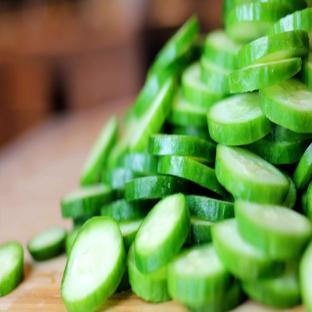Cucumber: (62, 217, 126, 311), (235, 201, 311, 260), (135, 194, 190, 272), (212, 219, 283, 279), (216, 145, 289, 203), (168, 244, 232, 306), (207, 93, 271, 145), (129, 79, 175, 151), (149, 17, 198, 75), (260, 79, 311, 132), (224, 1, 290, 41), (158, 156, 225, 195), (242, 263, 300, 308), (229, 58, 301, 93), (81, 116, 117, 185), (128, 244, 170, 302), (239, 31, 308, 66), (133, 66, 177, 116), (181, 62, 223, 108), (148, 135, 216, 163), (248, 133, 309, 164), (61, 184, 113, 218), (188, 280, 245, 311), (107, 114, 139, 168), (268, 8, 311, 47), (125, 175, 189, 201), (204, 30, 242, 70), (167, 91, 207, 127), (0, 241, 23, 296), (28, 228, 67, 260), (200, 56, 231, 95), (186, 196, 234, 221), (101, 199, 152, 221), (119, 152, 157, 179), (102, 167, 144, 191), (186, 216, 214, 245), (119, 219, 143, 252), (294, 143, 311, 189), (300, 243, 311, 311), (169, 126, 214, 142), (272, 124, 311, 141), (282, 174, 297, 208), (66, 226, 80, 256), (73, 212, 99, 227), (301, 52, 311, 90), (306, 181, 311, 220), (301, 191, 306, 214)
